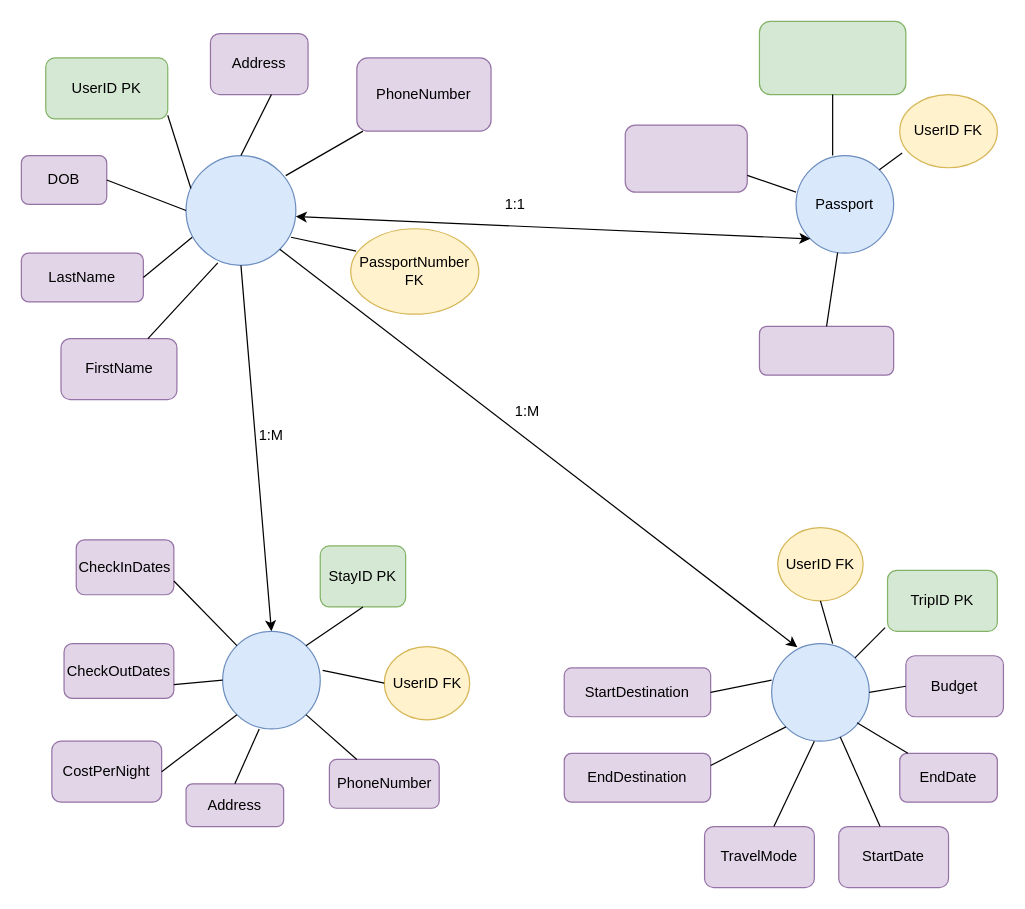
Some shapes in this 1025 by 909 pixel diagram are drawn without their labels. The centre of each missing label's shape, as x and y in pixels:
"ExpirationDate" goes at pixel 685 158.
"Hotel" goes at pixel 270 679.
"ListedAddress" goes at pixel 826 350.
"PassportNumber PK" goes at pixel 832 57.
"Trip" goes at pixel 819 691.
"User" goes at pixel 240 209.
